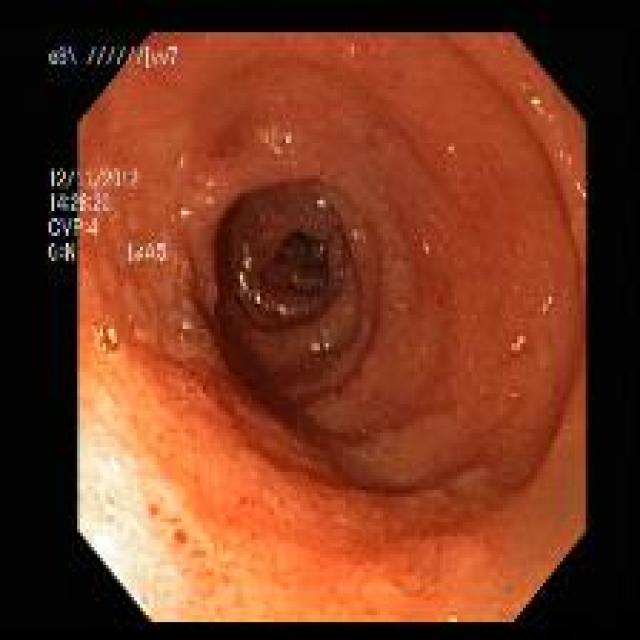ulcerative-colitis: (78, 33, 586, 622)
